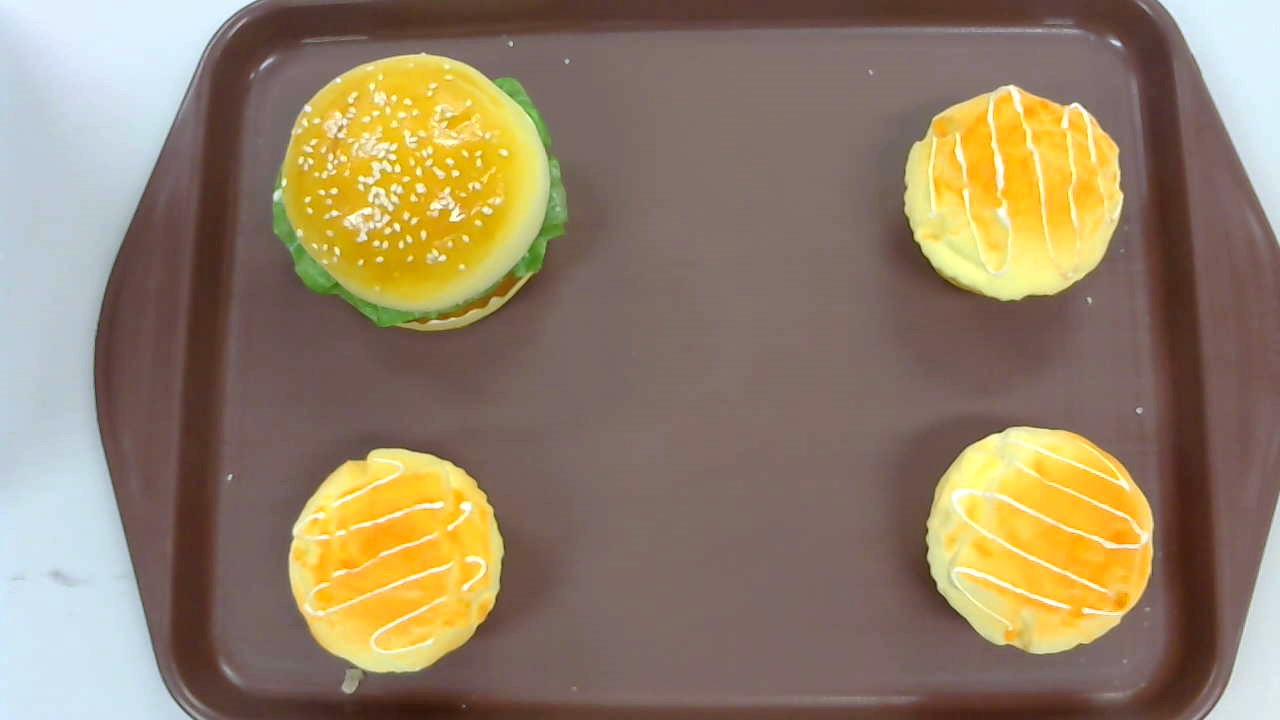cupcake: (925, 425, 1154, 655), (287, 447, 505, 674), (903, 84, 1124, 304)
hamburger: (273, 53, 569, 334)
